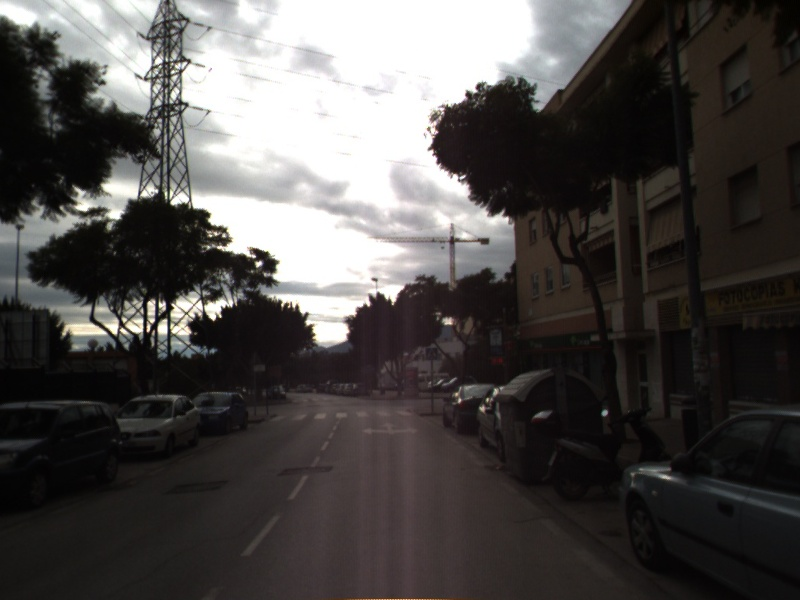STRAIGHT_LEFT_RIGHT: (359, 420, 421, 437)
